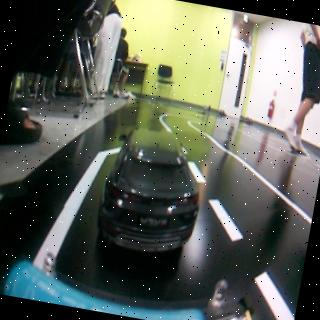car: (96, 120, 207, 258)
